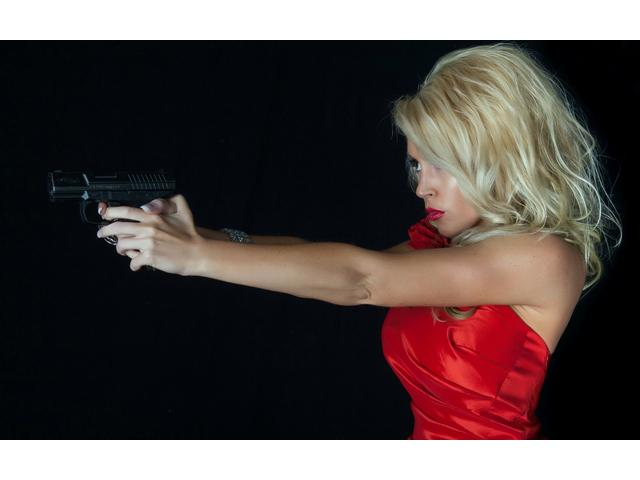pistol: (41, 163, 187, 276)
